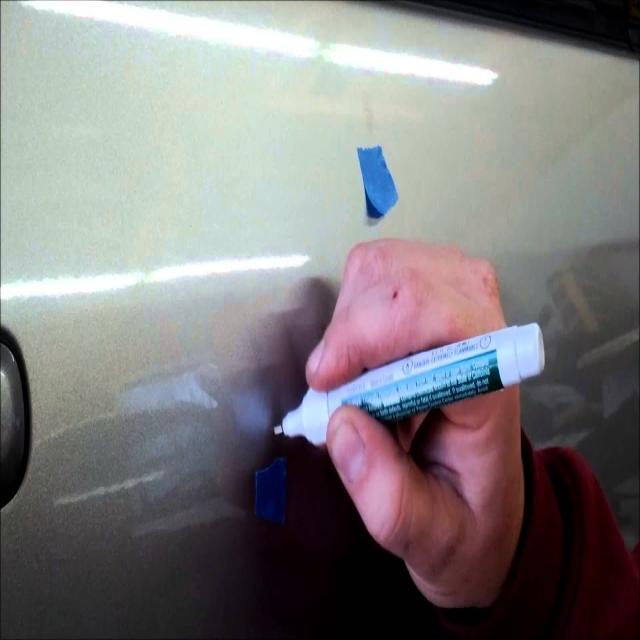scratch: (49, 467, 166, 515)
